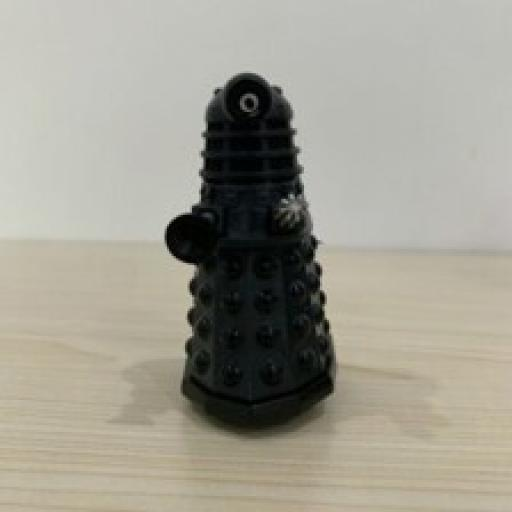dalek: (161, 65, 336, 431)
